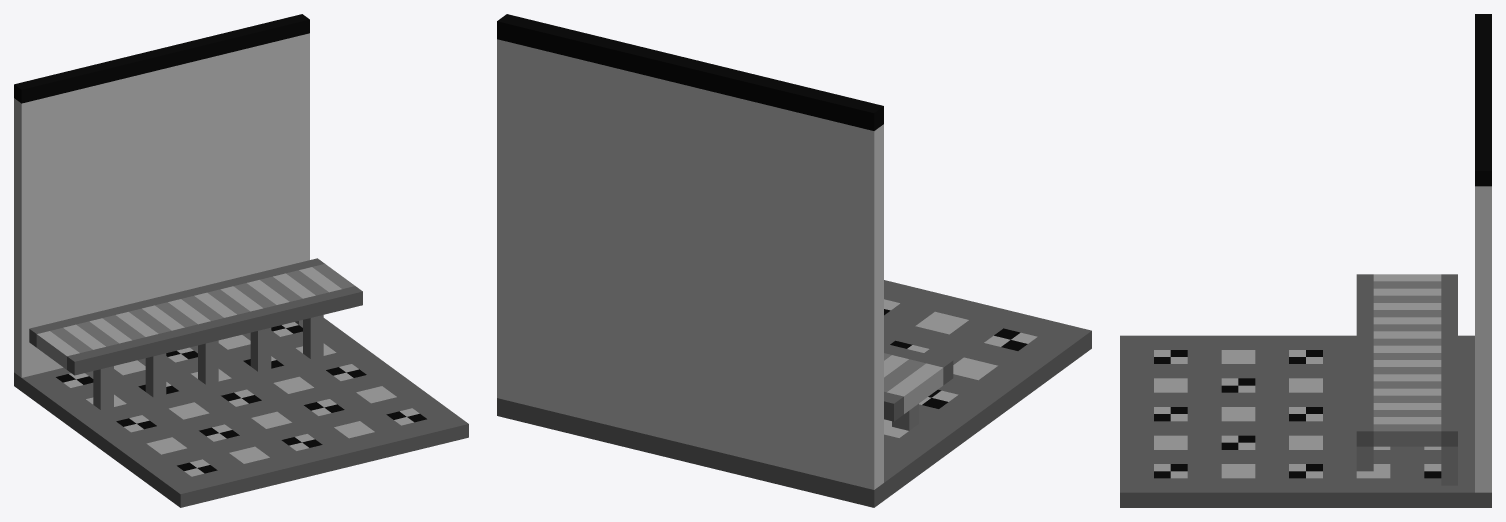
Rendered from level_one-2.obj.
3 views of the same model, side by side, from view 1: azimuth 30°, elevation 25°; view 2: azimuth 150°, elevation 25°; view 3: azimuth 270°, elevation 25° (orthographic). The views are drawn at different scales.
Parts seen in each view (by area): view 1: level_one-2; view 2: level_one-2; view 3: level_one-2.
Boxes of the visible parts, x1,y1,x2,y2 form: level_one-2: (14,14,468,507); level_one-2: (497,14,1091,507); level_one-2: (1120,14,1491,507).
Bounding box in the file's own units: 22 × 22 × 22.
1 material, 1 textured.
